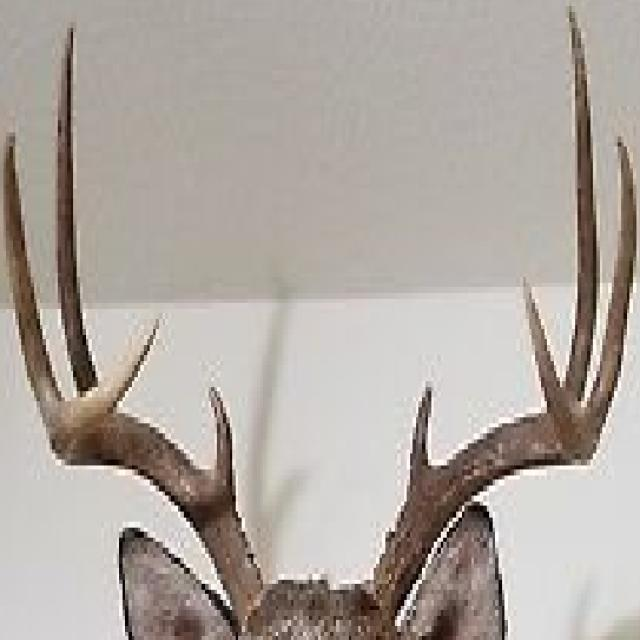L-F: (370, 271, 600, 636)
L-G1: (406, 380, 439, 501)
L-G2: (562, 8, 600, 400)
L-G3: (588, 140, 636, 431)
R-F: (45, 306, 269, 628)
R-G1: (209, 387, 236, 507)
R-G2: (54, 24, 98, 395)
R-G3: (2, 129, 66, 433)
